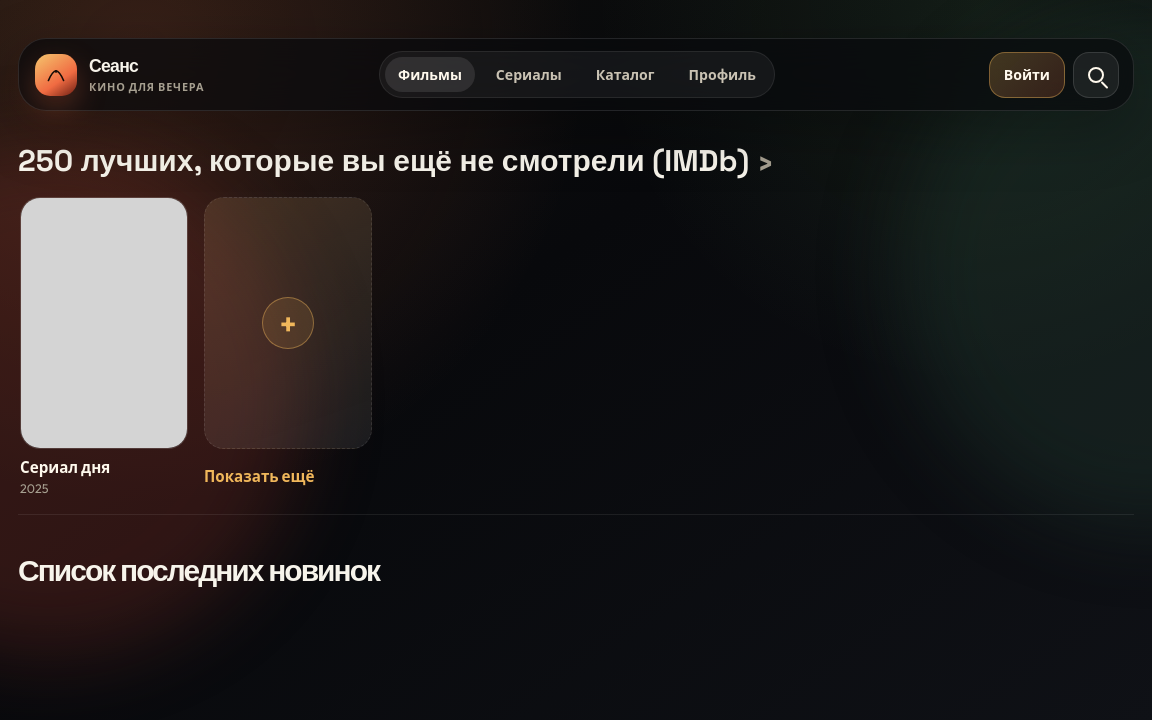
Test: App › updates the URL when opening serials and search
Click the button "Сериалы" at (529, 74), box [483, 57, 575, 92]
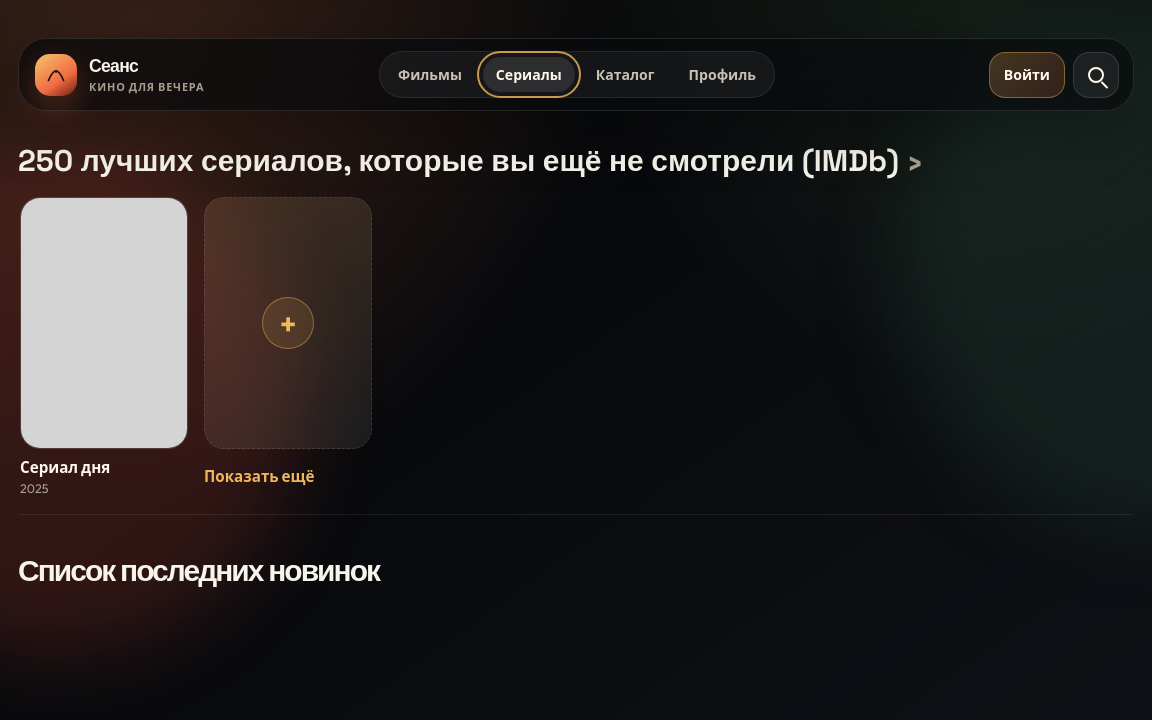
Click the button named "Открыть поиск" at (1096, 74), box [1073, 52, 1119, 98]
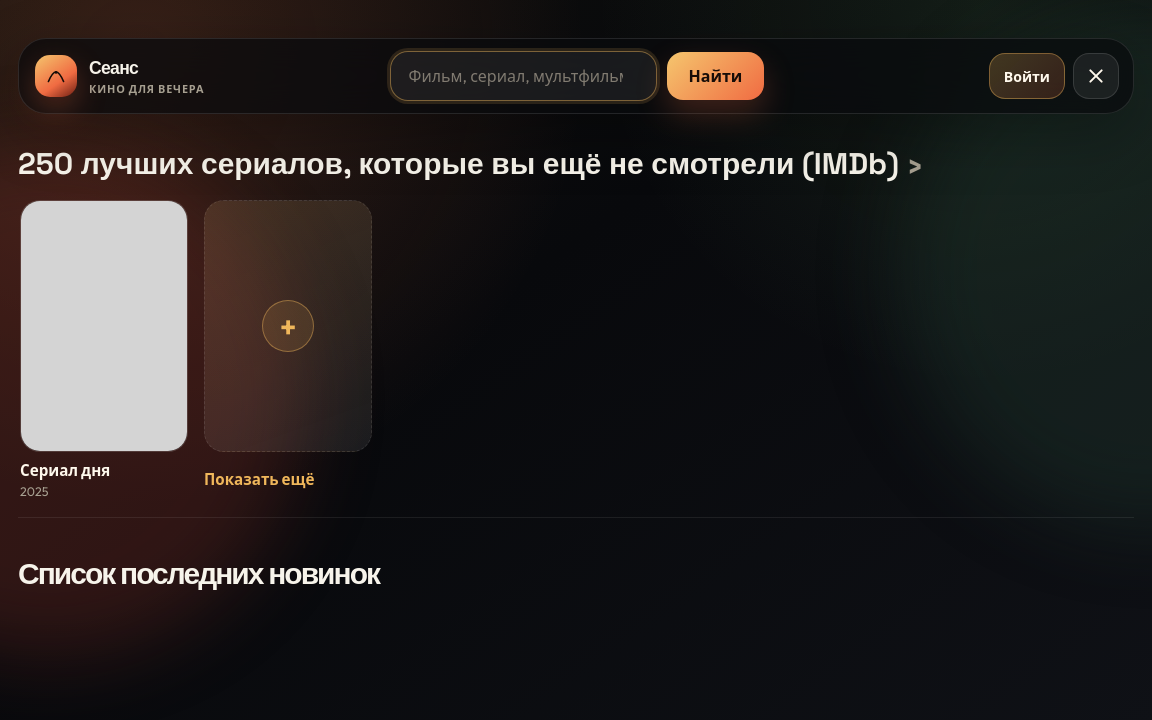
Type "тест" into the search field named "Поиск фильма" at (523, 76), box [390, 51, 657, 101]
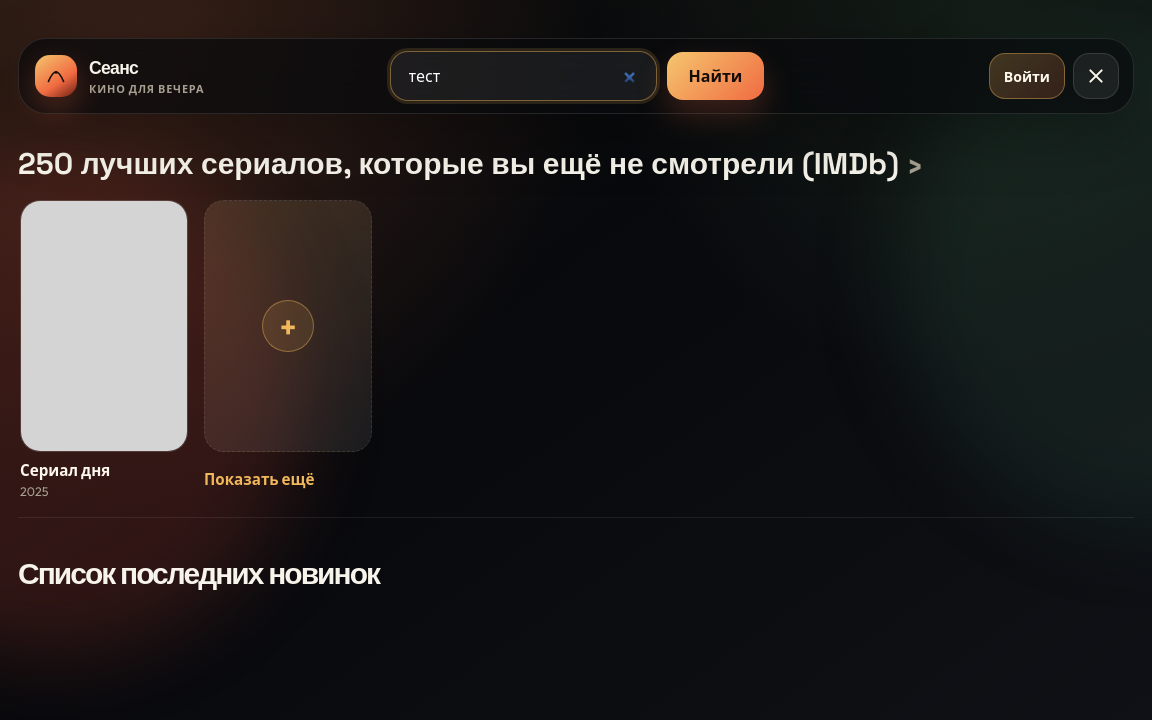
Click the button "Найти" at (716, 76), box [667, 52, 764, 100]
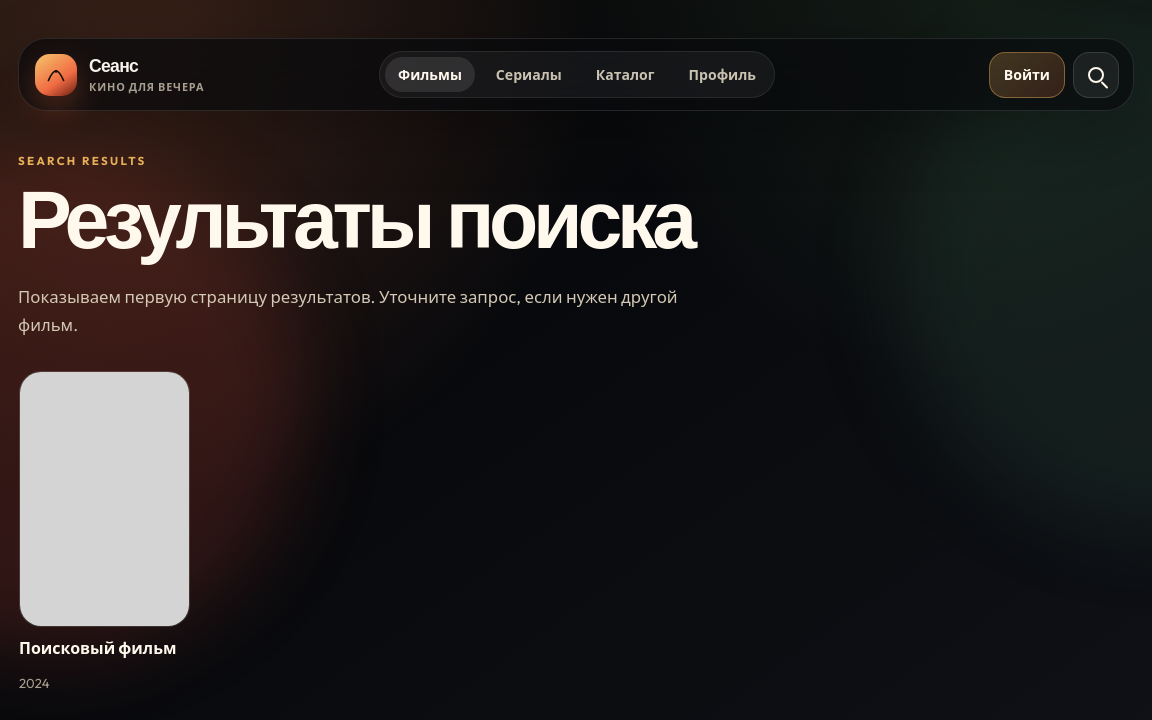
Now the text "Поисковый фильм" is shown, box [19, 639, 190, 670]
